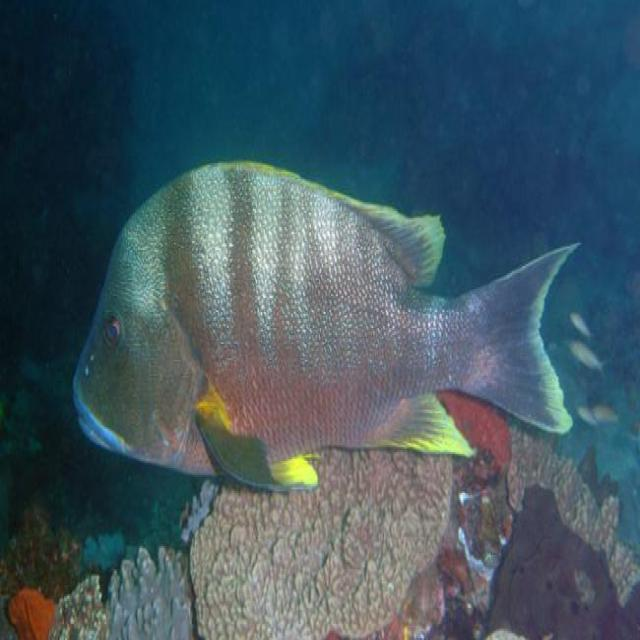ikan: (71, 156, 581, 495)
